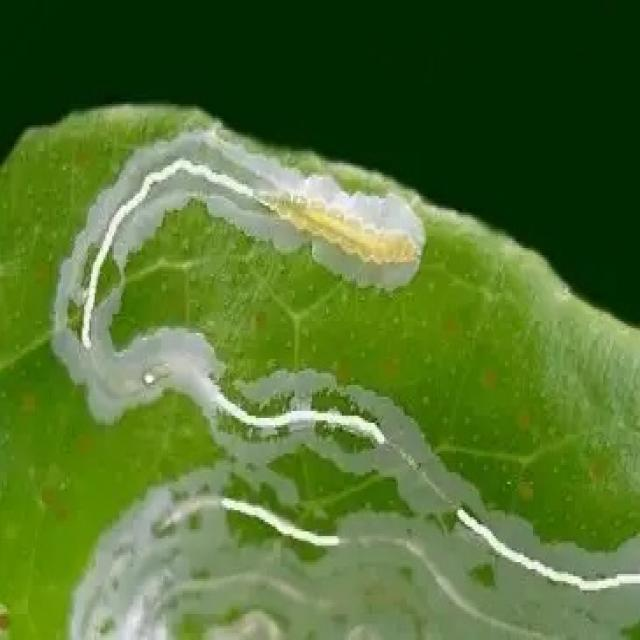Serpentine leafminer: (47, 113, 640, 638)
